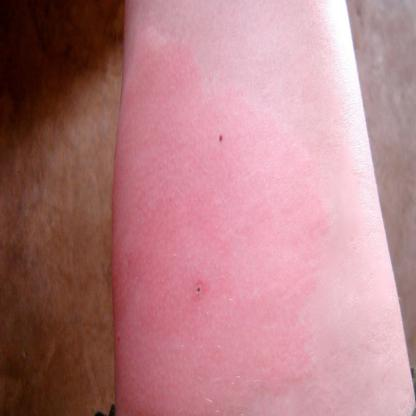Wasp: (184, 264, 216, 310)
